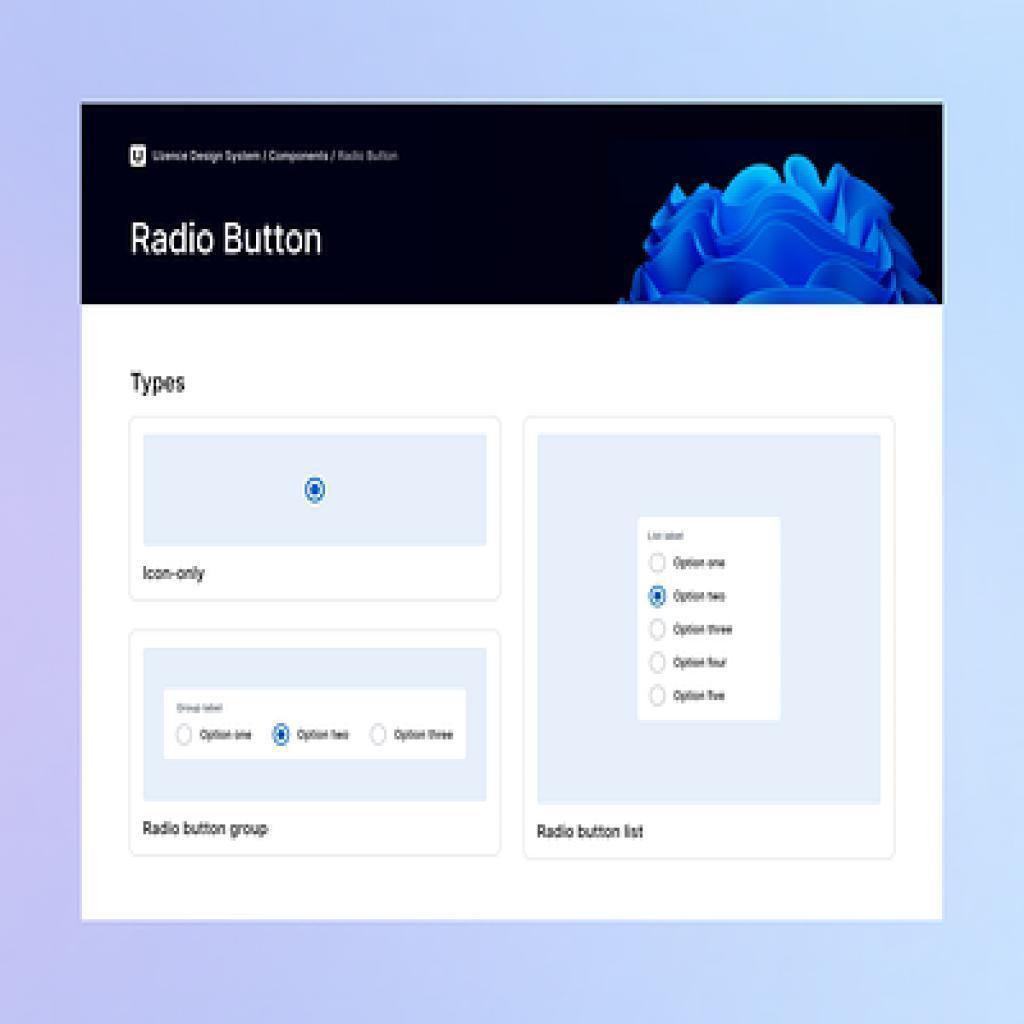radio: (303, 476, 326, 504), (646, 618, 667, 643), (646, 585, 667, 609), (174, 722, 194, 747), (270, 723, 290, 748), (648, 684, 668, 707), (649, 651, 666, 676), (647, 553, 668, 573), (368, 724, 386, 746)
